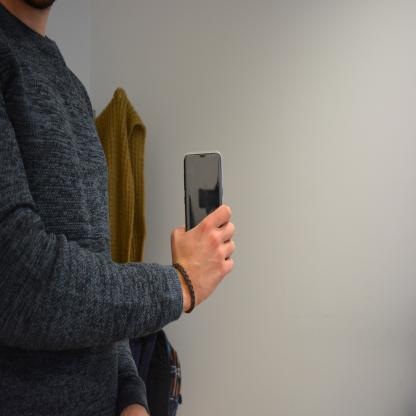smartphone: (183, 149, 225, 233)
